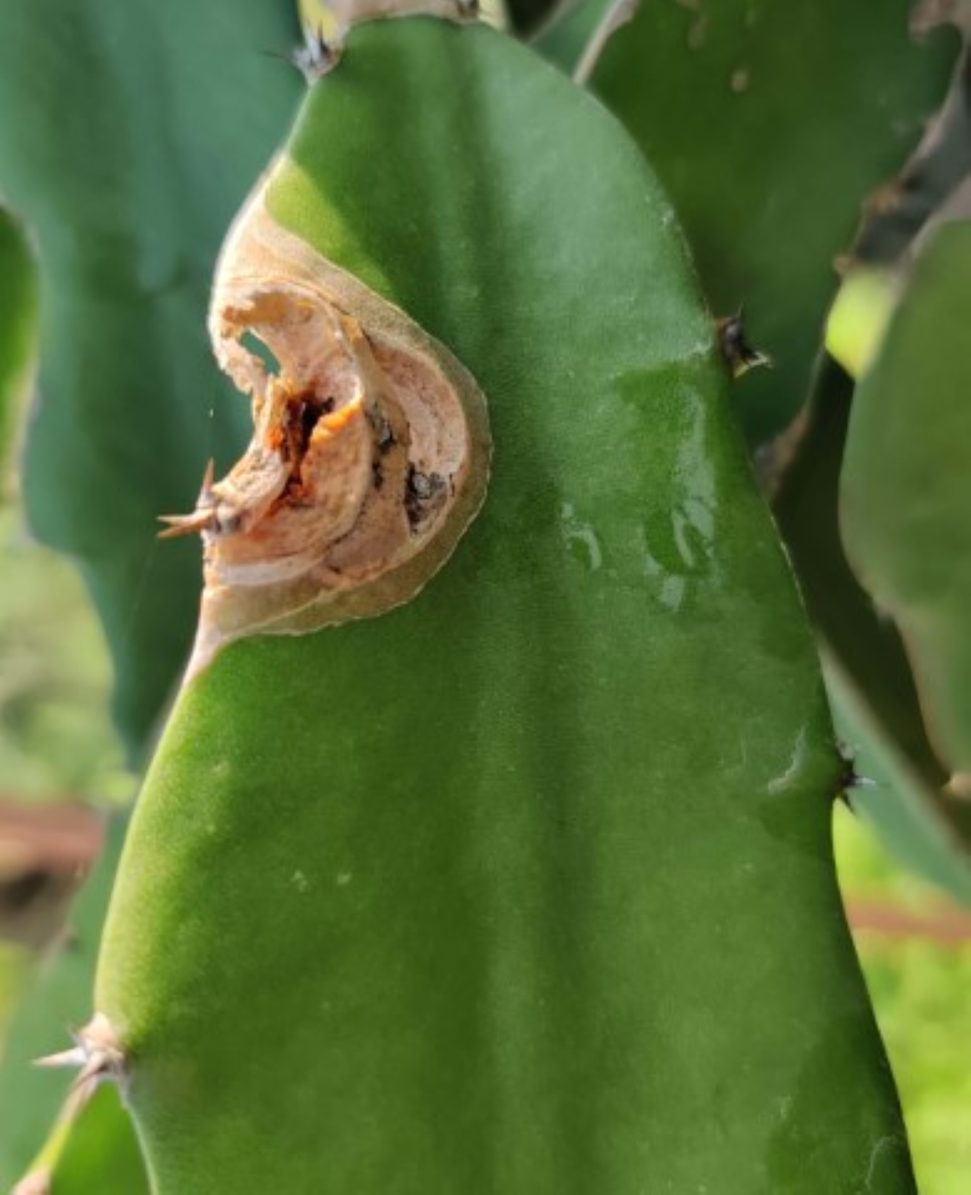stemcanker: (207, 202, 490, 636)
